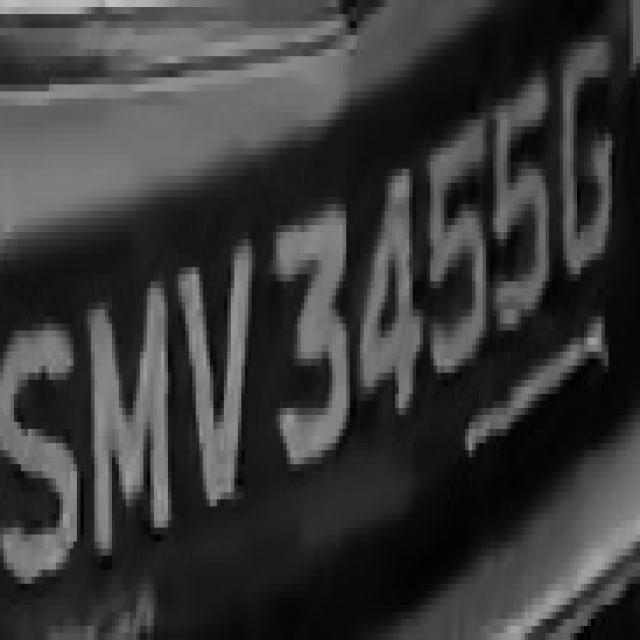3: (273, 183, 364, 485)
4: (343, 134, 430, 443)
5: (486, 56, 556, 352), (419, 112, 496, 380)
G: (549, 14, 623, 310)
M: (80, 260, 178, 584)
S: (7, 295, 80, 612)
V: (189, 218, 262, 527)
